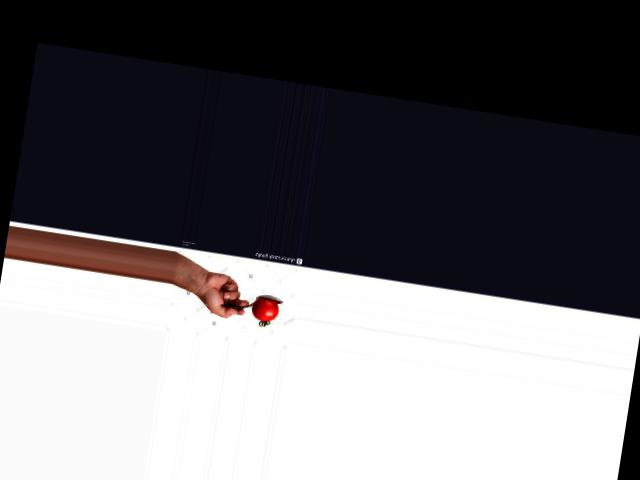tomato: (249, 296, 279, 323)
